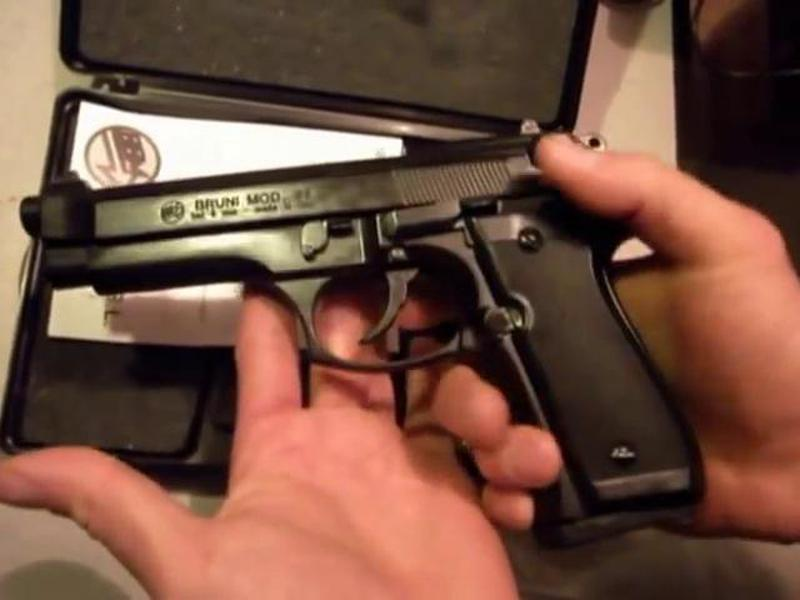Pistola: (41, 104, 716, 549)
